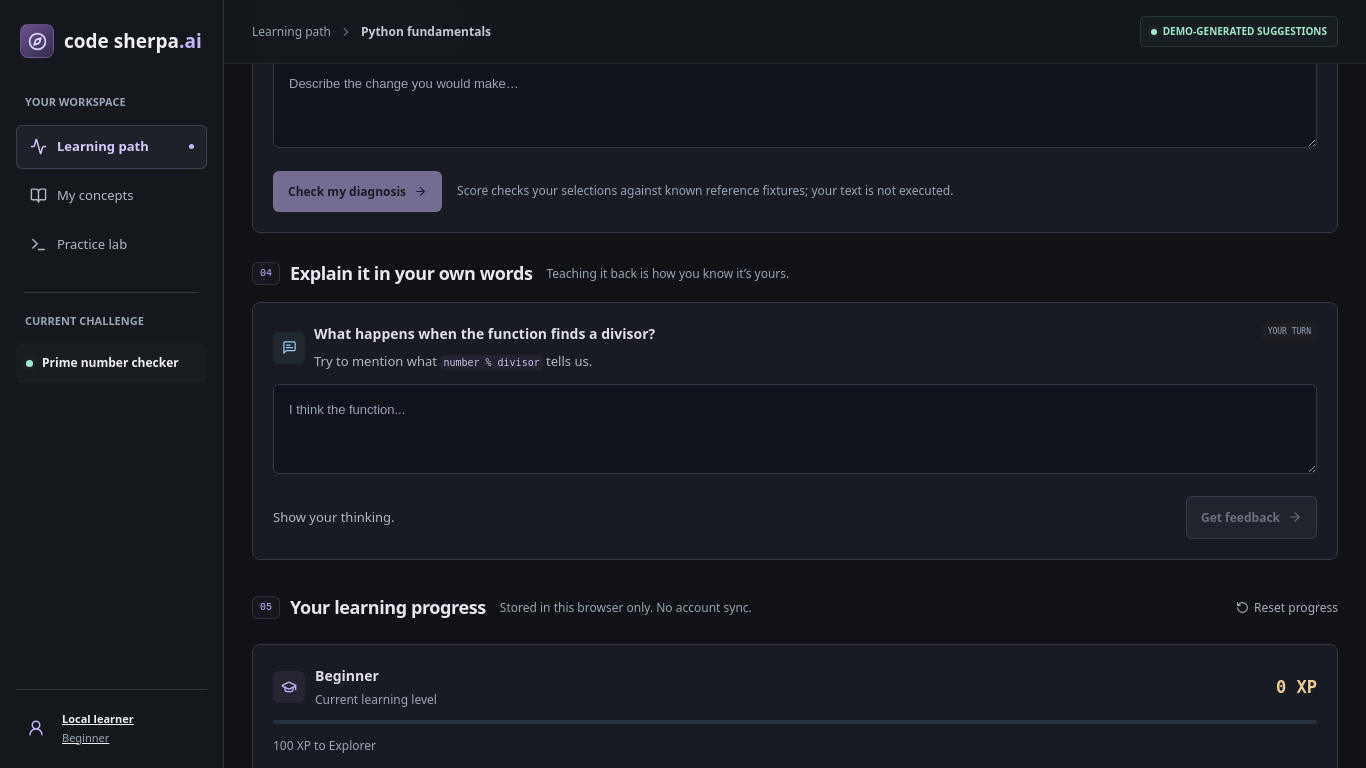
it: announces explanation feedback from a persistent live region
(page scrolled)
Type "I am thinking about a divisor." into the text box named "Your explanation" at [795, 429], box left=273, top=384, right=1317, bottom=474
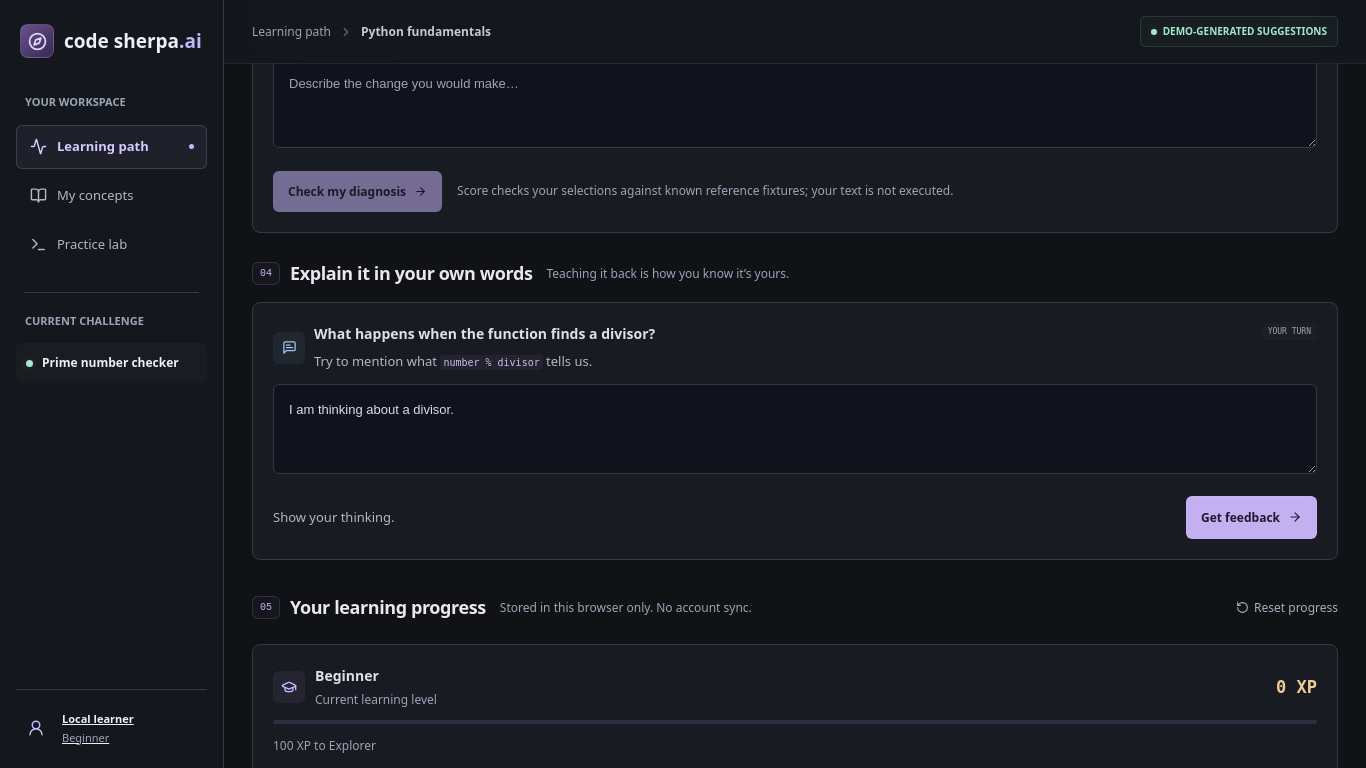
Click the button "Get feedback" at [1252, 518], box left=1186, top=496, right=1317, bottom=539
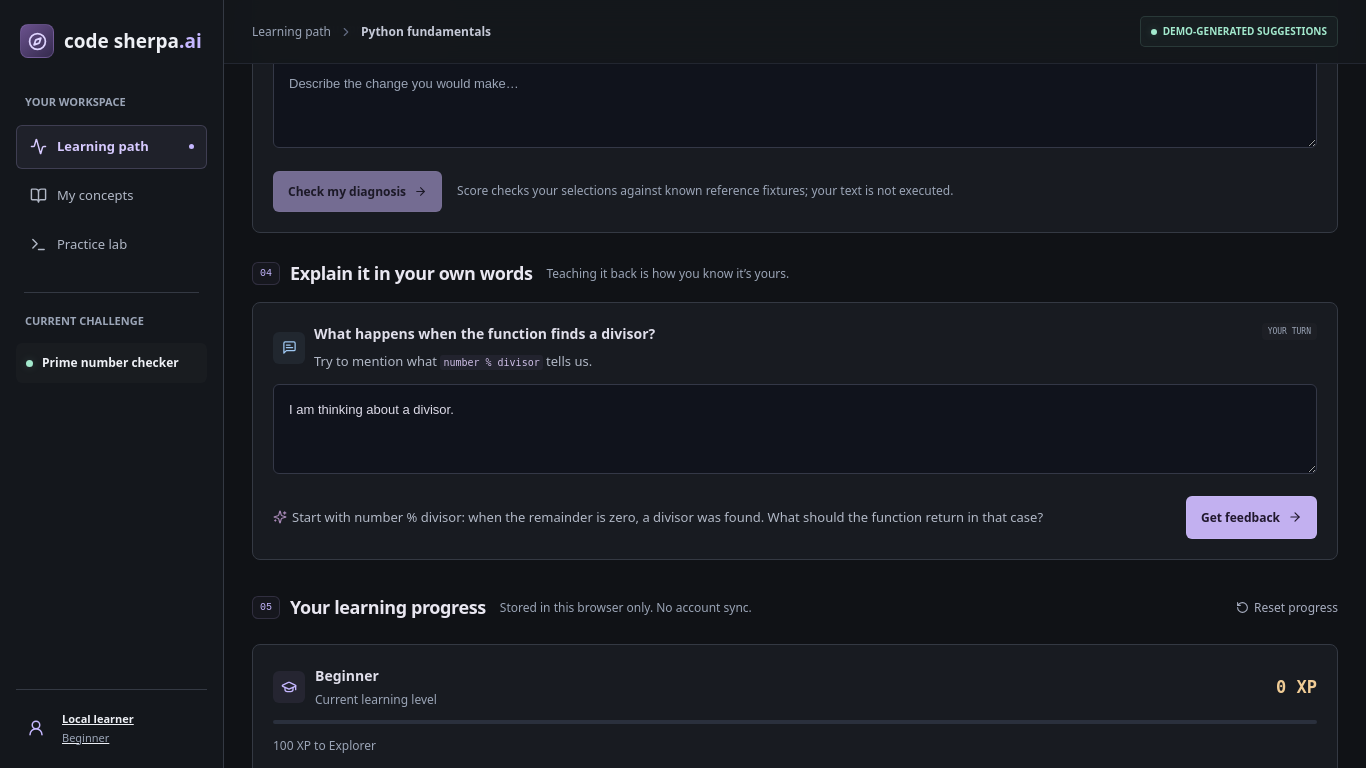
Expected: the message "Explanation feedback" no longer shows "Show your thinking."
